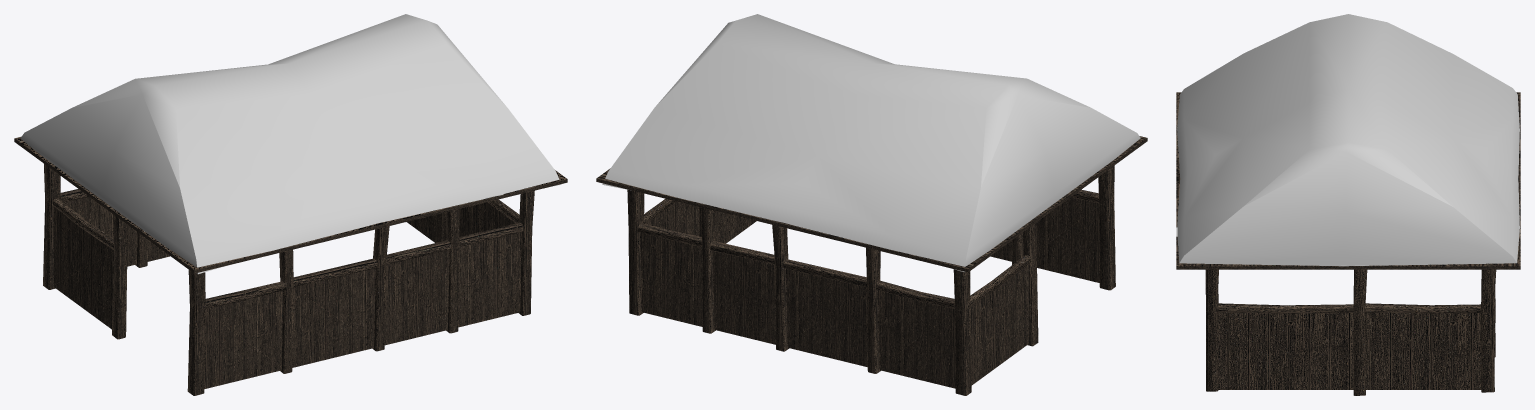
Rendered from stab.fbx.
The picture shows the model from 3 angles, left to right: view 1: azimuth 30°, elevation 25°; view 2: azimuth 150°, elevation 25°; view 3: azimuth 270°, elevation 25°; orthographic projection. The views are drawn at different scales.
Parts seen in each view (by area): view 1: Mesh Object; view 2: Mesh Object; view 3: Mesh Object.
Part boxes in pixels (box(x1,y1,x2,y2)): Mesh Object: box(14, 14, 567, 395); Mesh Object: box(596, 14, 1147, 395); Mesh Object: box(1176, 14, 1520, 395).
Bounding box in the file's own units: 8.56 × 5.5 × 7.15.
